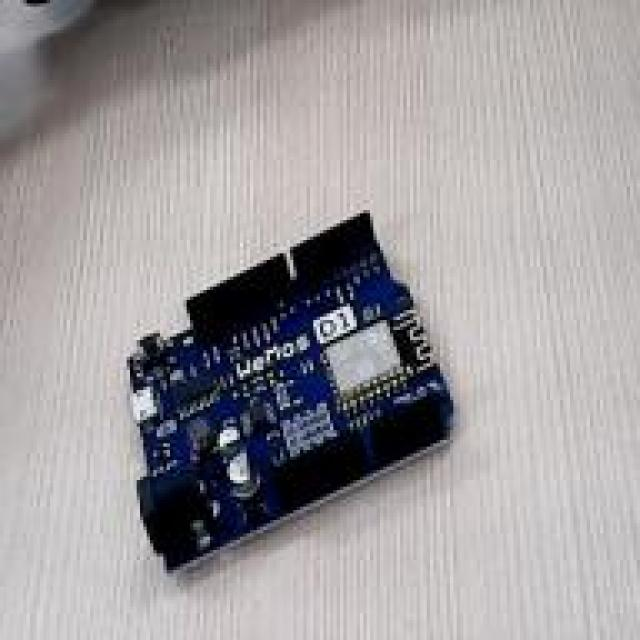Wemos: (128, 214, 451, 568)
